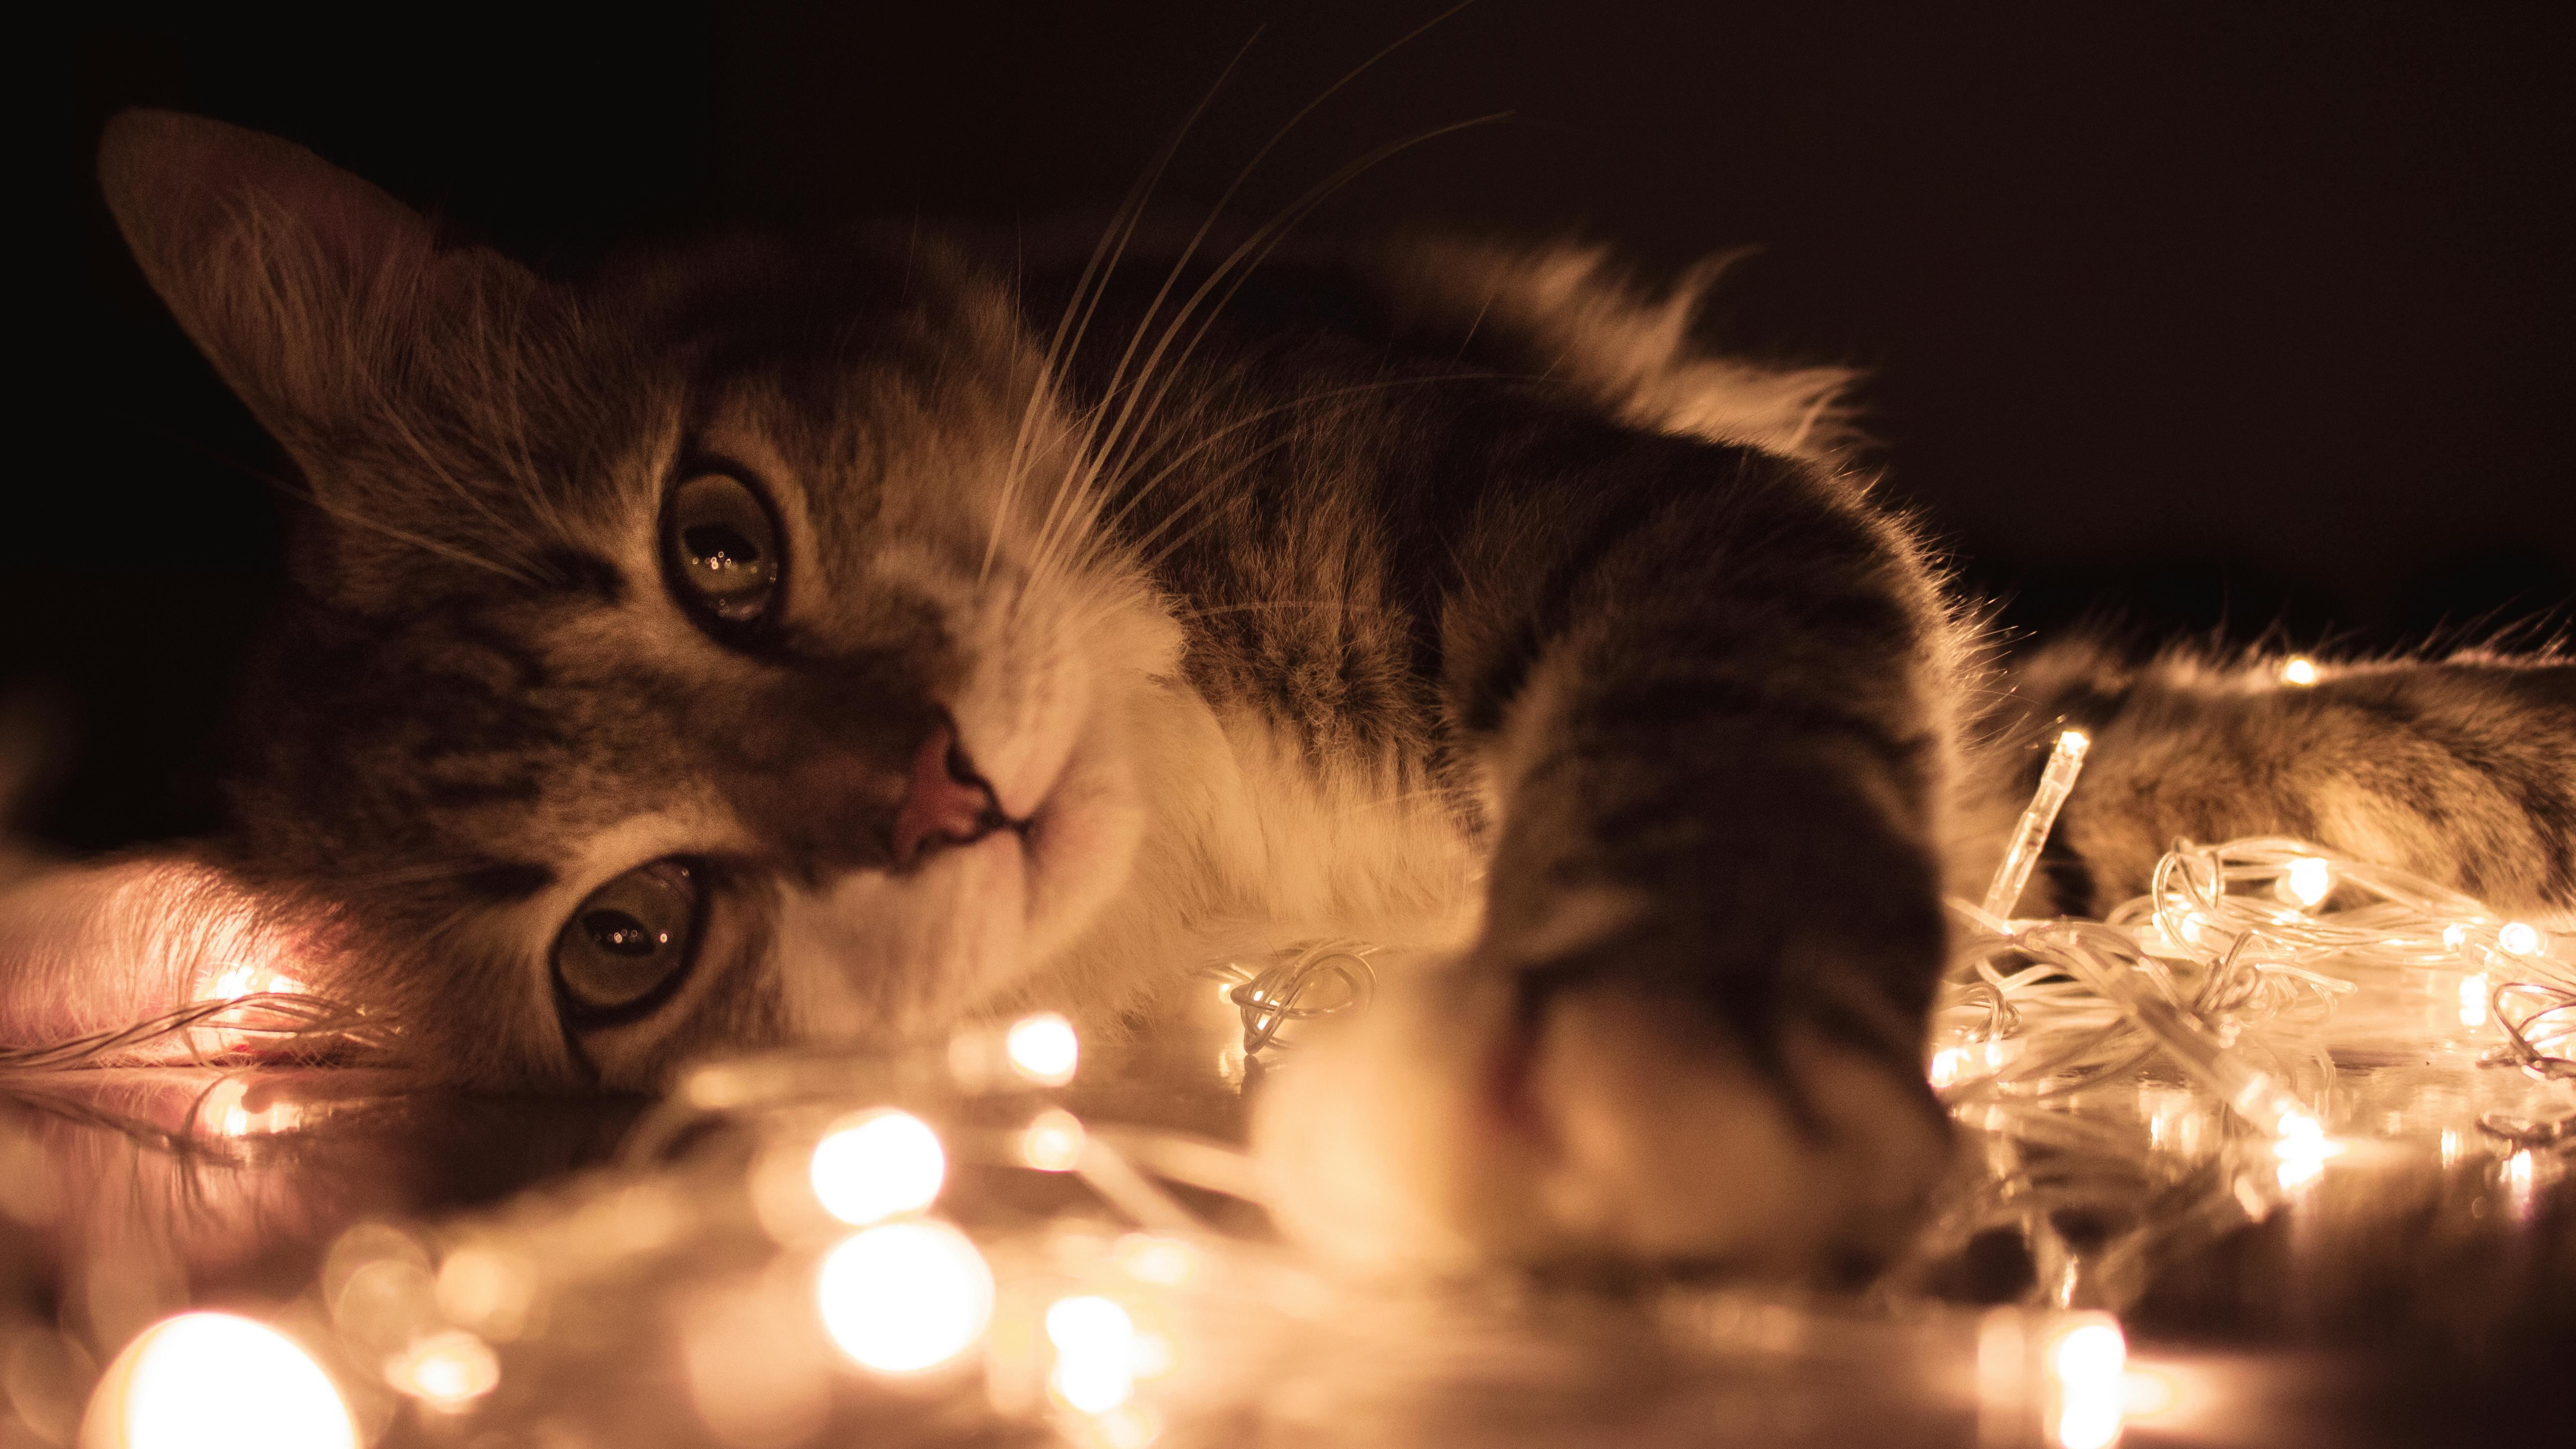kedo: (106, 104, 1957, 1277)
